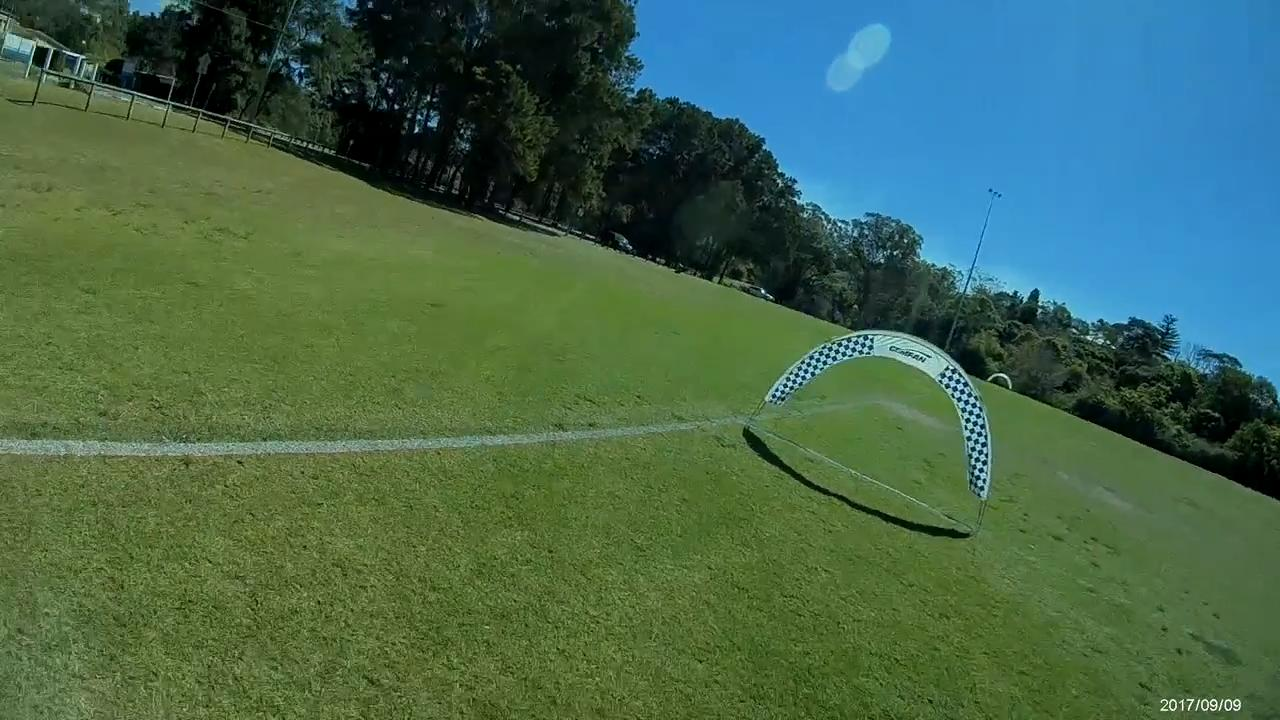gate: (760, 329, 989, 504), (986, 370, 1012, 393)
